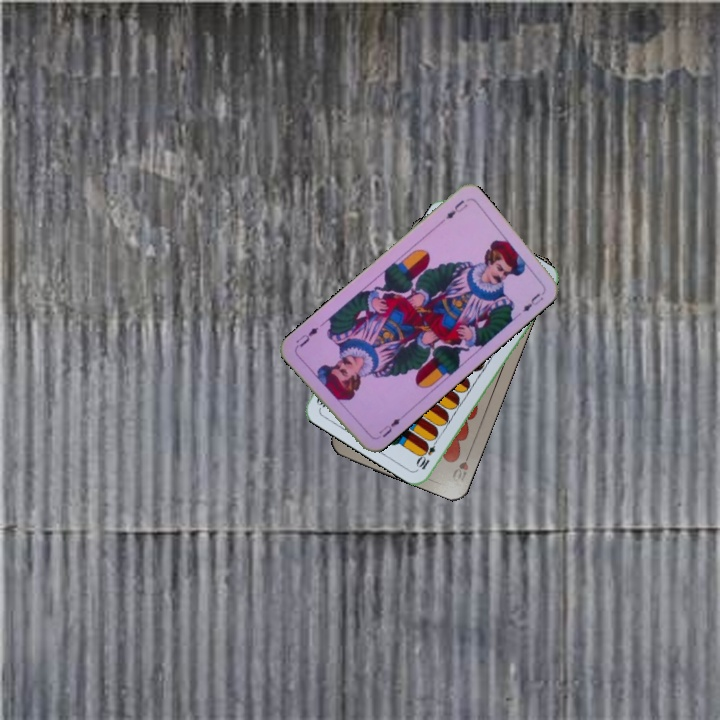E10: (413, 434, 441, 472)
EU: (375, 414, 403, 440), (442, 196, 470, 222)
H10: (448, 447, 473, 487)
